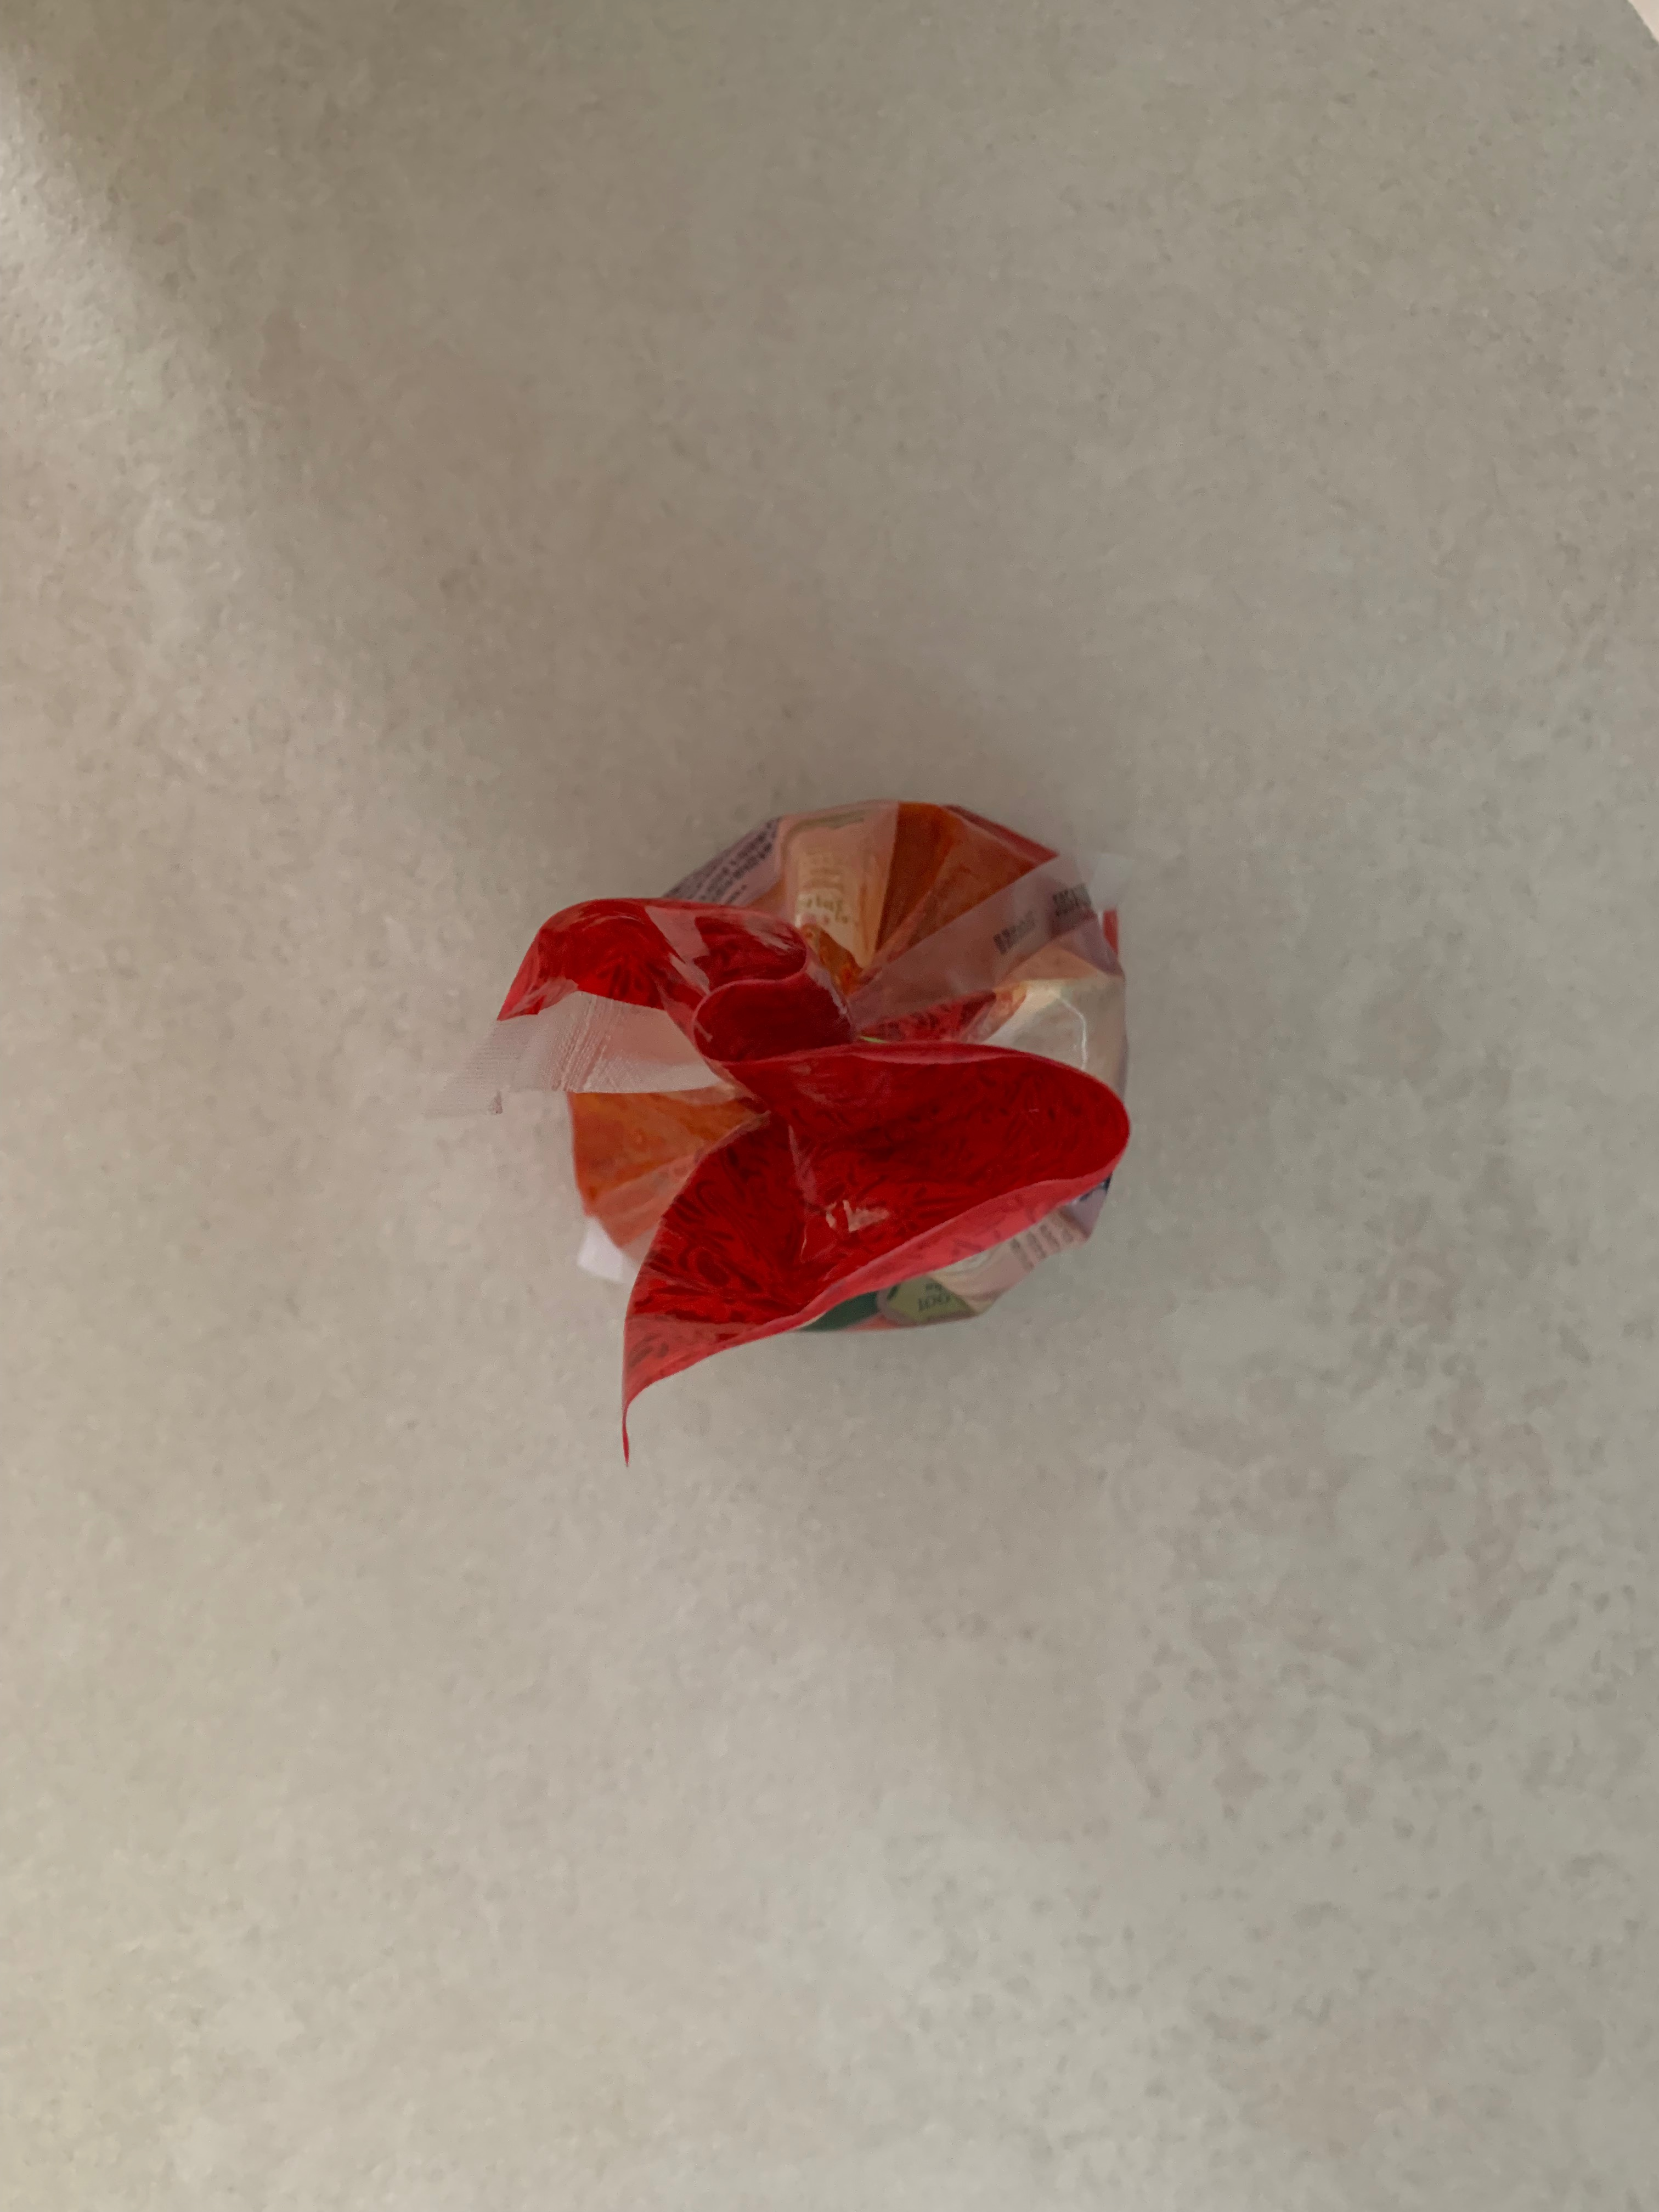kimchi: (495, 799, 1126, 1374)
